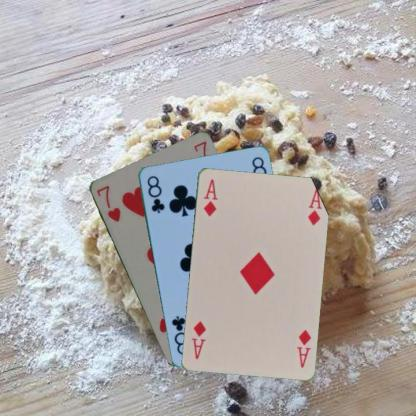7h: (94, 182, 122, 224)
8c: (144, 173, 166, 214)
Ad: (200, 176, 219, 218), (294, 327, 312, 369)
